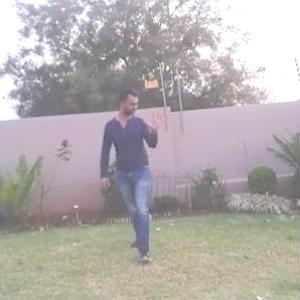follow_hand: (148, 107, 169, 132)
